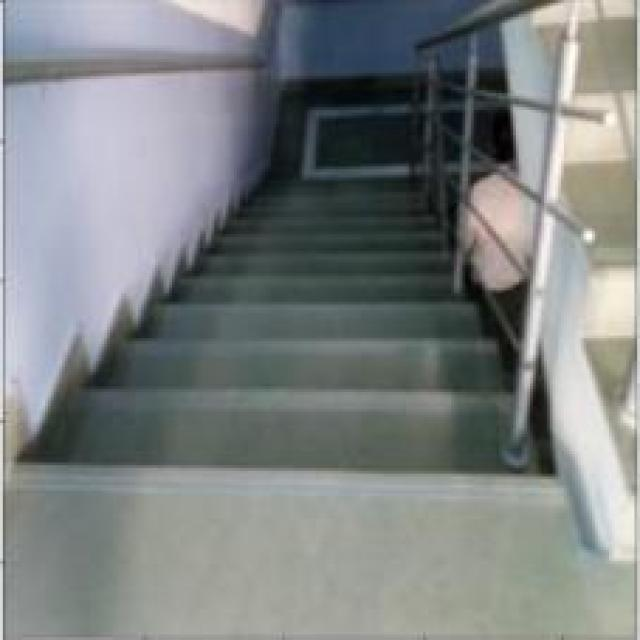downstair: (38, 289, 509, 517)
